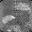people: (2, 15, 15, 24)
